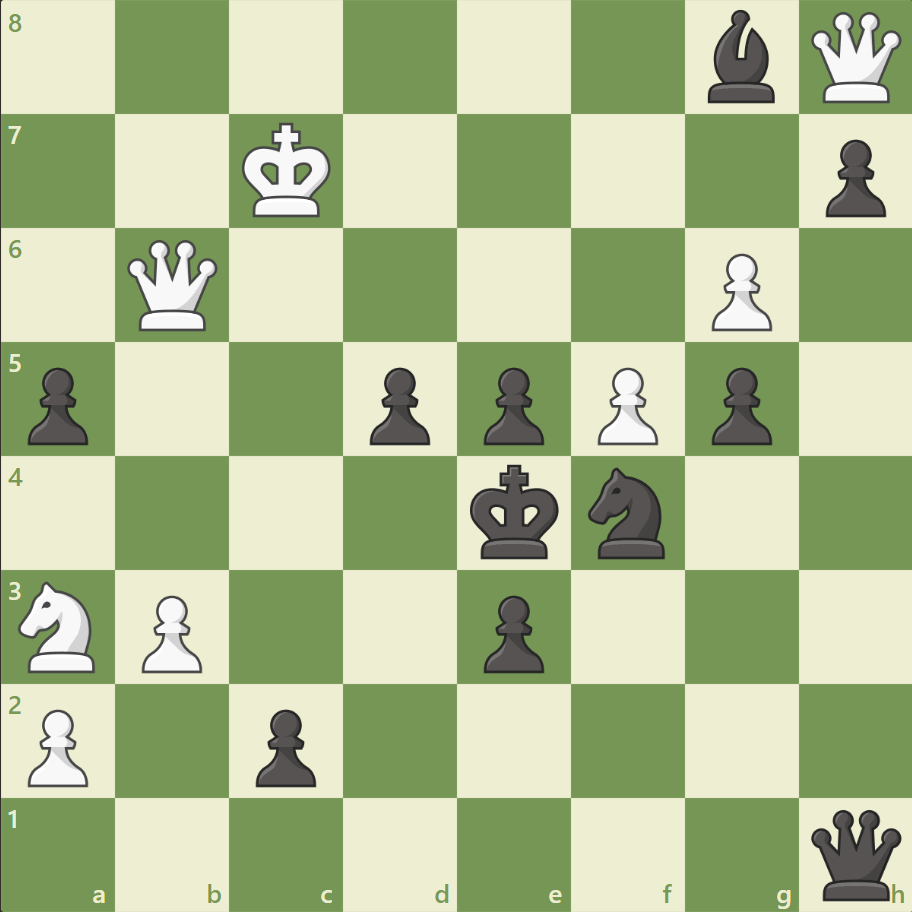K: (238, 117, 338, 225)
N: (11, 575, 108, 677)
P: (701, 246, 776, 337), (133, 586, 208, 677), (20, 700, 95, 791), (588, 359, 662, 450)
Q: (805, 9, 904, 108), (124, 236, 223, 335)
b: (698, 6, 782, 109)
k: (465, 458, 565, 566)
n: (579, 461, 676, 564)
p: (20, 359, 95, 450), (474, 359, 549, 450), (701, 359, 776, 450), (474, 586, 549, 677), (247, 700, 322, 791), (815, 132, 889, 223), (361, 359, 435, 450)
q: (805, 804, 904, 903)
